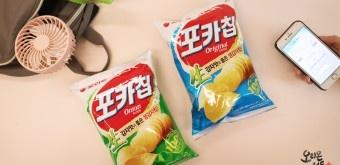snack: (153, 0, 278, 141), (70, 48, 201, 165)
